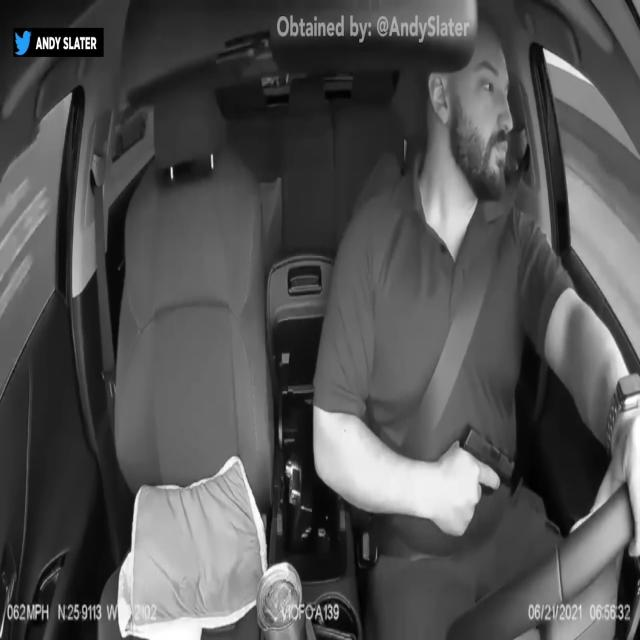senjata_api: (459, 423, 516, 498)
